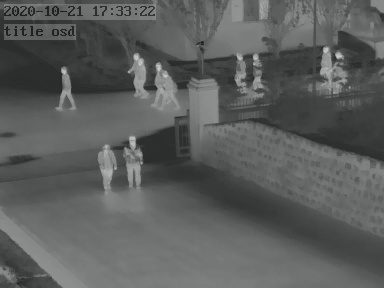person: (124, 136, 143, 190), (54, 63, 74, 109), (97, 141, 115, 189), (130, 51, 148, 99), (318, 44, 335, 87), (163, 70, 179, 111), (332, 50, 348, 90), (152, 61, 166, 104), (250, 51, 263, 89), (234, 52, 246, 87)
